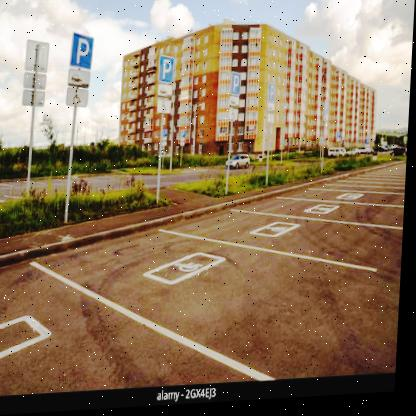Parking: (71, 33, 95, 67), (158, 54, 178, 86), (233, 75, 243, 99), (271, 85, 278, 105), (325, 103, 332, 119)
